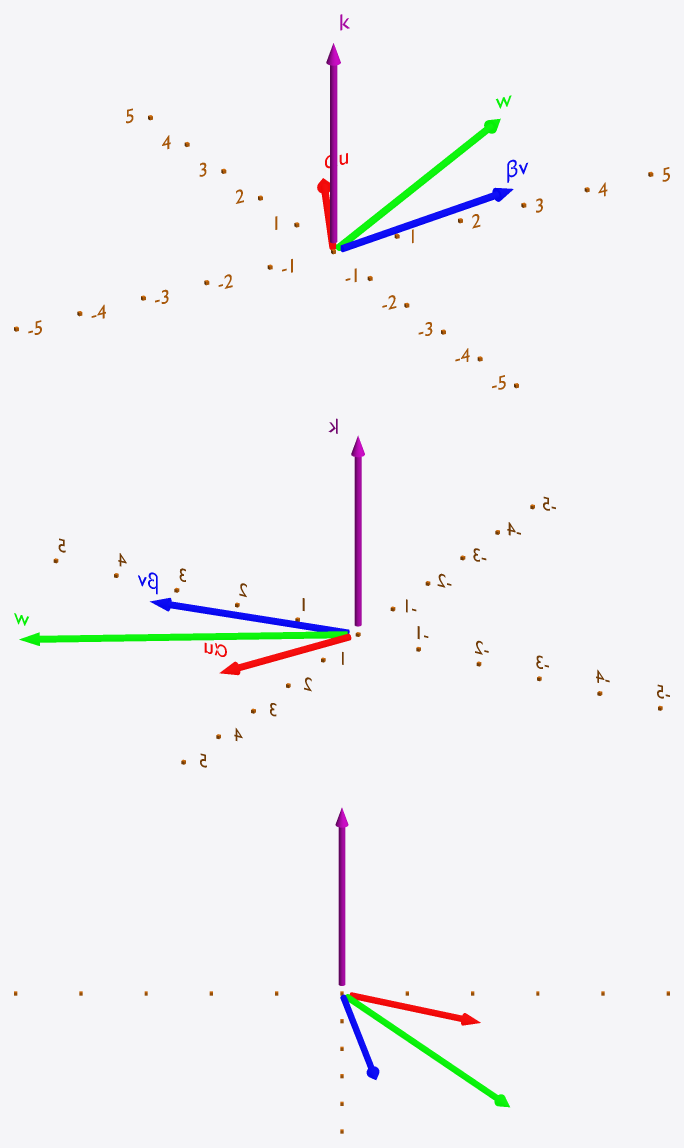
Rendered from espaciovec6.glb.
3 views of the same model, one above another, from view 1: azimuth 30°, elevation 25°; view 2: azimuth 150°, elevation 25°; view 3: azimuth 270°, elevation 25° (orthographic). The views are drawn at different scales.
Visible parts, largest first — view 1: w_cuerpo, k_z_cuerpo, beta_v_cuerpo; view 2: w_cuerpo, k_z_cuerpo, beta_v_cuerpo, alpha_u_cuerpo; view 3: w_cuerpo, k_z_cuerpo, alpha_u_cuerpo, beta_v_cuerpo.
Part boxes in pixels (x1,y1,x2,y2): w_cuerpo: (336,123,493,250); k_z_cuerpo: (330,65,337,243); beta_v_cuerpo: (340,191,499,252); w_cuerpo: (39,631,347,642); k_z_cuerpo: (354,457,361,626); beta_v_cuerpo: (168,601,349,633); alpha_u_cuerpo: (239,633,351,670); w_cuerpo: (345,994,497,1100); k_z_cuerpo: (338,827,345,985); alpha_u_cuerpo: (349,992,461,1021); beta_v_cuerpo: (340,994,373,1068).
Bounding box in the file's own units: 10.16 × 3.54 × 10.05.
